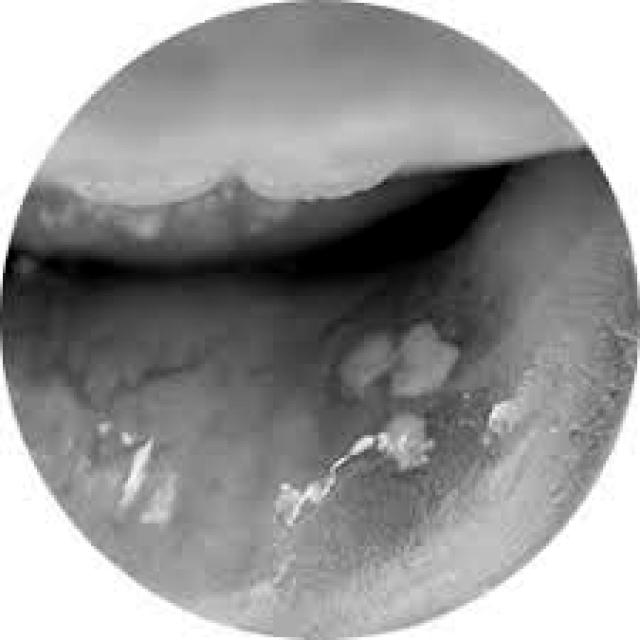ulcer: (390, 324, 458, 395), (336, 333, 393, 393), (375, 412, 432, 469)
